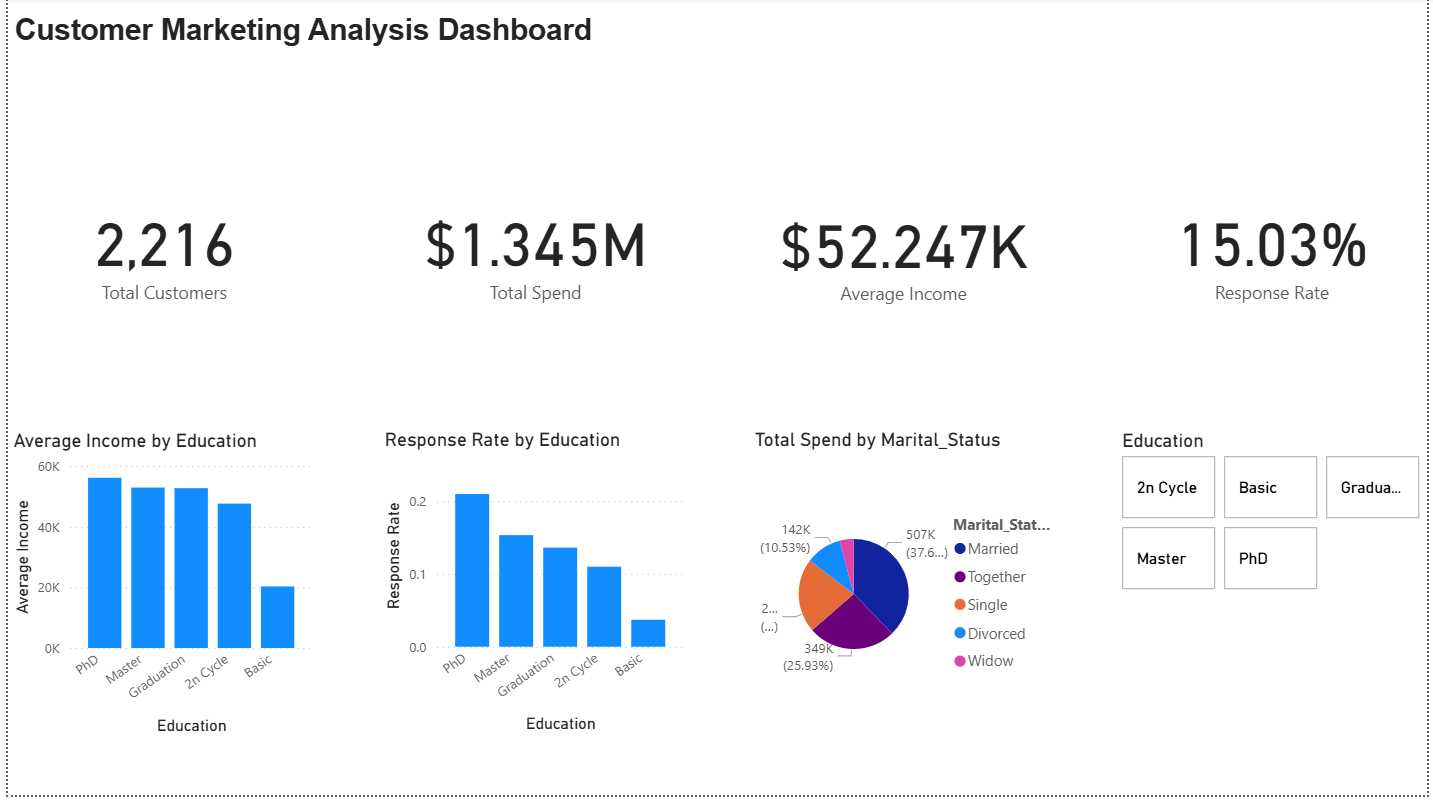

What the dashboard file says about the page in this screenshot:
{"tool":"powerbi","page":{"name":"Page 1","canvas":[1280,720],"ordinal":0},"visuals":[{"type":"card","fields":{"Values":["marketing_campaign.Total Customers"]},"box":[1.2,88,280,280],"z":0},{"type":"card","fields":{"Values":["marketing_campaign.Total Spend"]},"box":[336.3,88,280,280],"z":1000},{"type":"card","fields":{"Values":["marketing_campaign.Average Income"]},"box":[668.9,89.3,278.8,280],"z":2000},{"type":"card","fields":{"Values":["marketing_campaign.Response Rate","select","select1"]},"box":[1000.3,88,280,280],"z":3000},{"type":"clusteredColumnChart","fields":{"Category":["marketing_campaign.Education"],"Y":["marketing_campaign.Response Rate"]},"box":[335.1,388.9,280,280],"z":4000},{"type":"clusteredColumnChart","fields":{"Category":["marketing_campaign.Education"],"Y":["marketing_campaign.Average Income"]},"box":[0,390.1,280,280],"z":5000},{"type":"pieChart","fields":{"Category":["marketing_campaign.Marital_Status"],"Y":["marketing_campaign.Total Spend"]},"box":[668.9,388.9,278.8,280],"z":6000},{"type":"advancedSlicerVisual","fields":{"Values":["marketing_campaign.Education"]},"box":[1000.3,390.1,280,150.4],"z":7000},{"type":"textbox","box":[1.2,9.8,545.4,41.6],"z":8000}]}

Visuals, with their boxes in screenshot pixels (x1, y1, x2, y2), scaled from the page's 1280x720 canvas onto the 1433x801 screenshot:
card - marketing_campaign.Total Customers: 1 98 315 409
card - marketing_campaign.Total Spend: 376 98 690 409
card - marketing_campaign.Average Income: 749 99 1061 411
card - marketing_campaign.Response Rate x select: 1120 98 1432 409
clusteredColumnChart - marketing_campaign.Education x marketing_campaign.Response Rate: 375 433 689 744
clusteredColumnChart - marketing_campaign.Education x marketing_campaign.Average Income: 0 434 313 745
pieChart - marketing_campaign.Marital_Status x marketing_campaign.Total Spend: 749 433 1061 744
advancedSlicerVisual - marketing_campaign.Education: 1120 434 1432 601
textbox: 1 11 612 57
